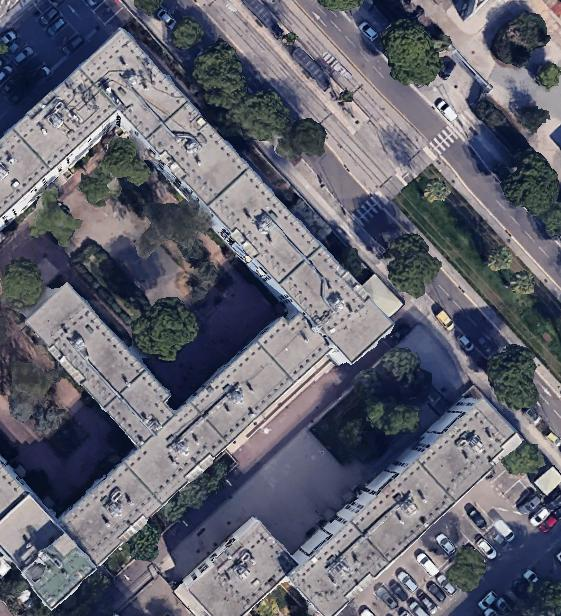immeuble: (6, 252, 393, 615), (73, 23, 402, 368), (273, 382, 525, 616), (19, 281, 236, 502), (0, 23, 172, 238), (0, 445, 106, 616), (171, 515, 300, 616)
